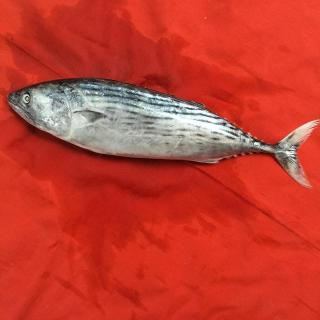Ikan: (16, 61, 307, 201)
